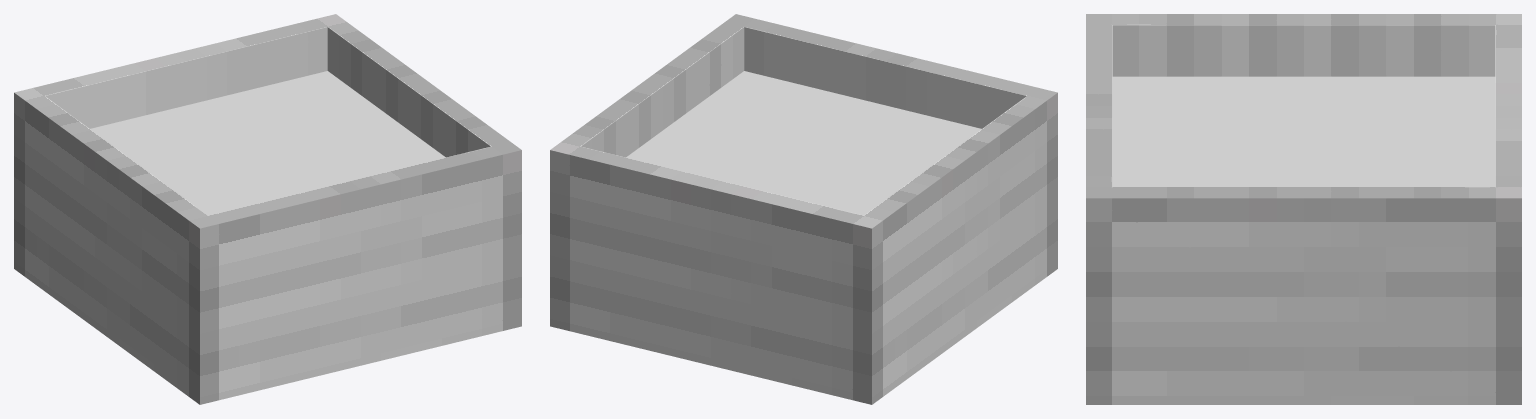
The model's file is cake_form.fbx.
3 views of the same model, side by side, from view 1: azimuth 30°, elevation 25°; view 2: azimuth 150°, elevation 25°; view 3: azimuth 270°, elevation 25° (orthographic). The views are drawn at different scales.
Parts seen in each view (by area): view 1: Cube, Cube.006; view 2: Cube, Cube.006; view 3: Cube, Cube.006.
Boxes of the visible parts, x1,y1,x2,y2 form: Cube: (14, 14, 521, 404); Cube.006: (90, 71, 445, 215); Cube: (550, 14, 1057, 404); Cube.006: (626, 71, 981, 215); Cube: (1086, 14, 1521, 404); Cube.006: (1112, 76, 1495, 186).
Size of the model in its own units: 221 by 116 by 221.
